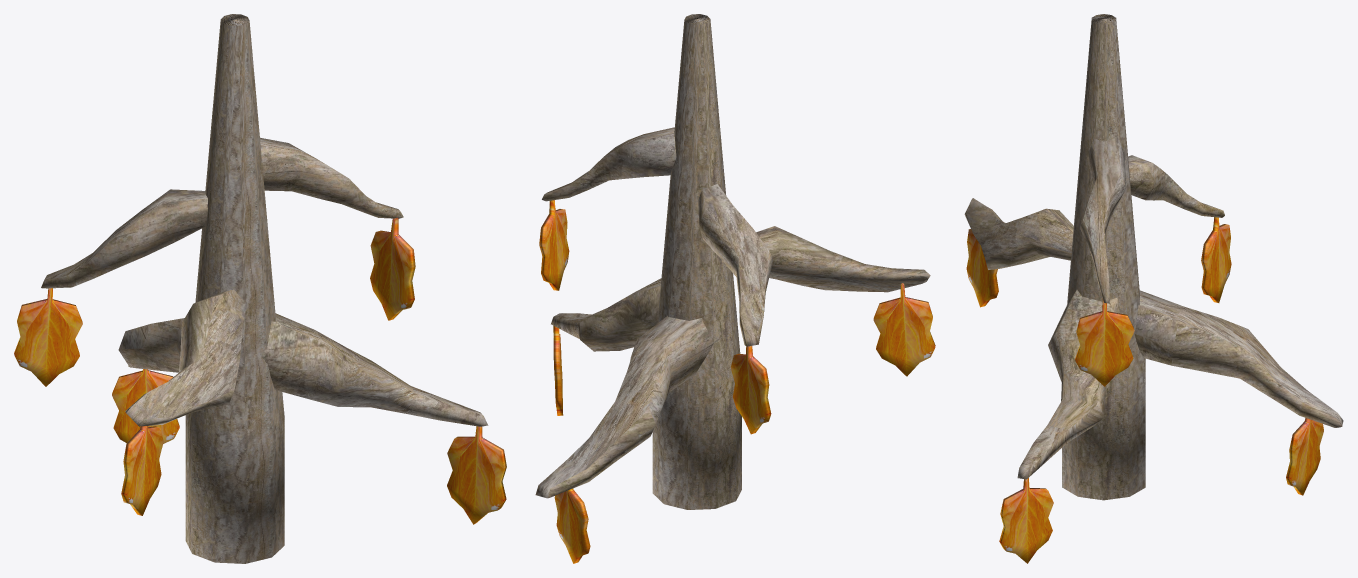
File: treeOrangeLeaf.fbx
3 views of the same model, side by side, from view 1: azimuth 30°, elevation 25°; view 2: azimuth 150°, elevation 25°; view 3: azimuth 270°, elevation 25° (orthographic). The views are drawn at different scales.
Visible parts, largest first — view 1: polySurface82; view 2: polySurface82; view 3: polySurface82.
Part boxes in pixels (box(x1,y1,x2,y2)): polySurface82: box(14, 14, 506, 563); polySurface82: box(535, 14, 935, 563); polySurface82: box(964, 14, 1343, 563).
Size of the model in its own units: 6.33 by 7.91 by 5.83.
Materials: 2 (2 with a texture image).
